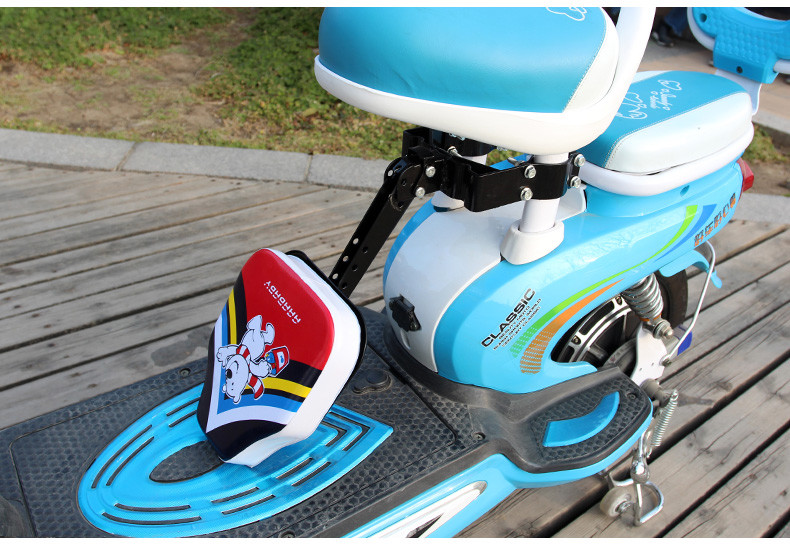电动车: (3, 12, 790, 536)
